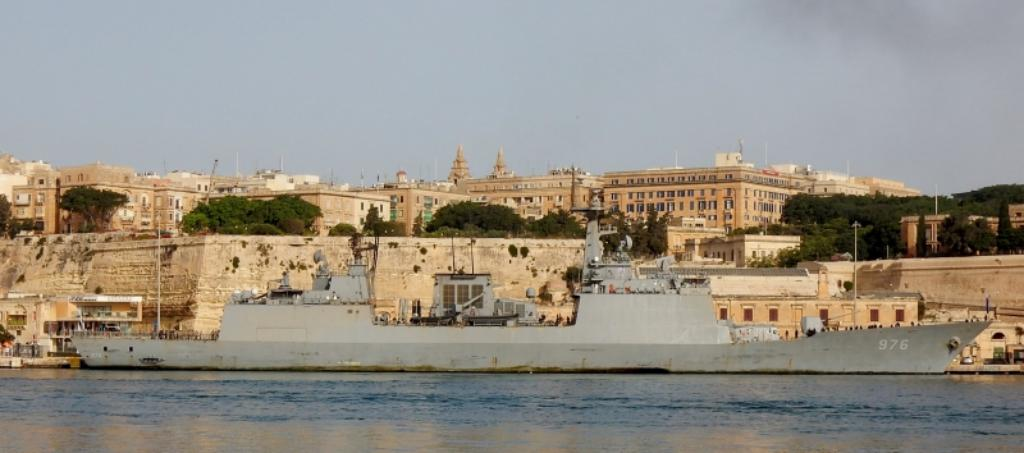Warship: (66, 198, 992, 374)
